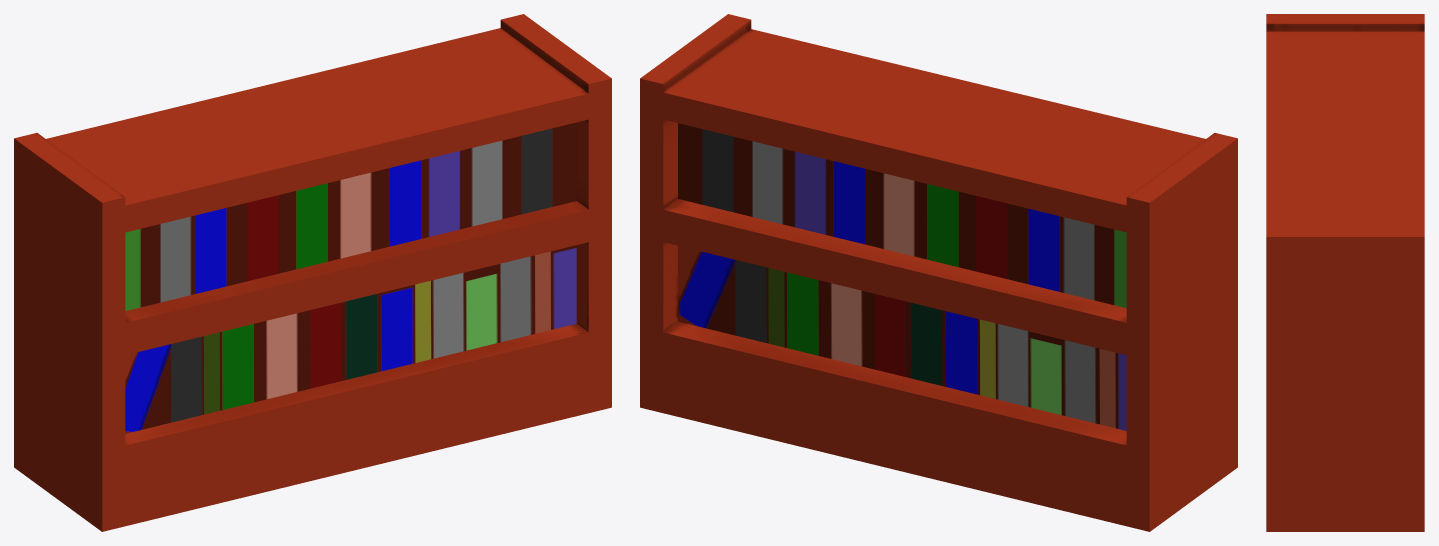
Rendered from Bookshelf.fbx.
The picture shows the model from 3 angles, left to right: view 1: azimuth 30°, elevation 25°; view 2: azimuth 150°, elevation 25°; view 3: azimuth 270°, elevation 25°; orthographic projection. The views are drawn at different scales.
Visible parts, largest first — view 1: Cube; view 2: Cube; view 3: Cube.
Part boxes in pixels (left/top/right/bottom): Cube: left=14, top=14, right=611, bottom=531; Cube: left=640, top=14, right=1237, bottom=531; Cube: left=1266, top=14, right=1424, bottom=531.
Bounding box in the file's own units: 628 × 387 × 188.
